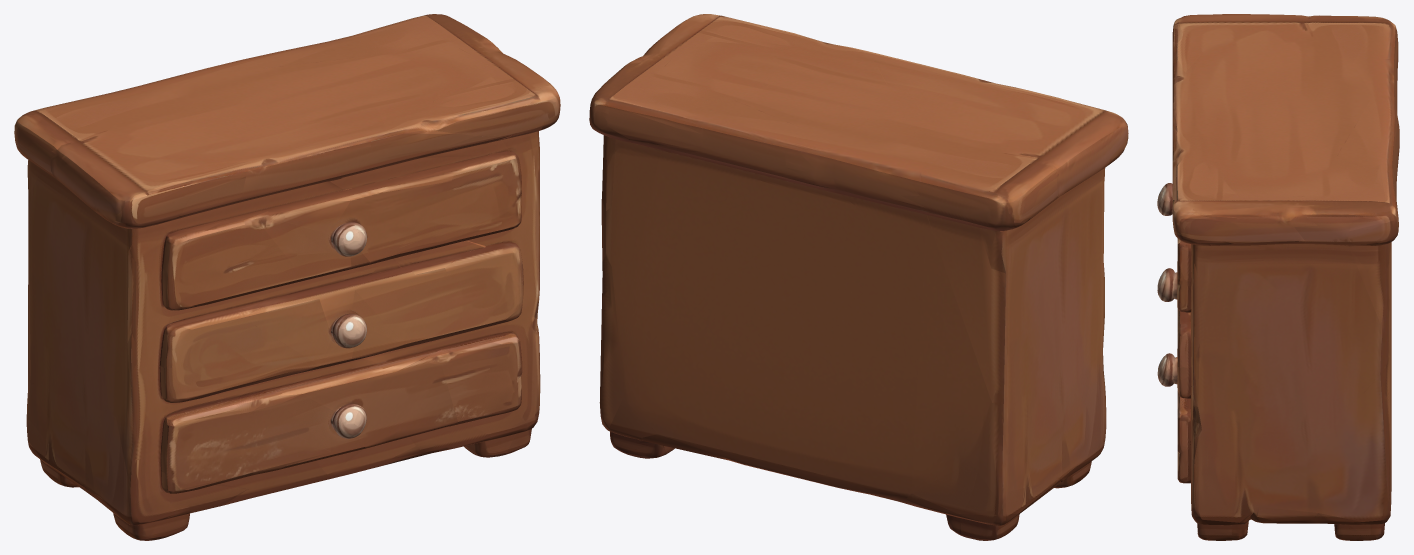
Rendered from raw_drawer.glb.
3 views of the same model, side by side, from view 1: azimuth 30°, elevation 25°; view 2: azimuth 150°, elevation 25°; view 3: azimuth 270°, elevation 25° (orthographic). The views are drawn at different scales.
Bounding box in the file's own units: 1.9 × 1.49 × 0.9584.
1 material, 1 textured.
